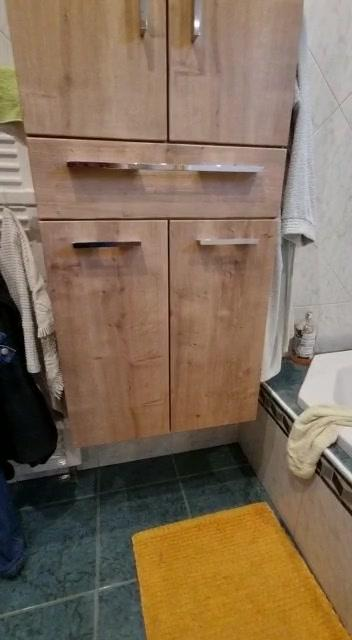cabinet_door: (56, 219, 169, 440), (17, 0, 167, 140), (30, 140, 283, 218), (171, 221, 269, 420), (172, 0, 291, 146)
handle: (64, 152, 148, 183), (180, 154, 265, 182), (66, 231, 145, 256), (189, 230, 261, 252), (184, 0, 205, 52), (131, 0, 154, 47)
